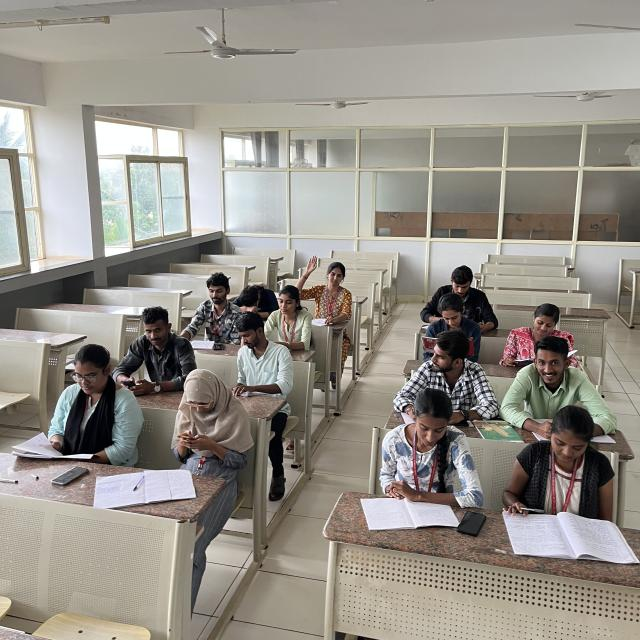Hand Rising: (297, 255, 355, 322)
Reading: (11, 339, 134, 463), (372, 397, 474, 529), (498, 299, 581, 368), (229, 312, 292, 398), (418, 294, 481, 354)
Sleeping: (231, 277, 279, 316)
Using Phone: (167, 365, 252, 459), (112, 308, 196, 398)
Writing: (502, 408, 610, 538)
